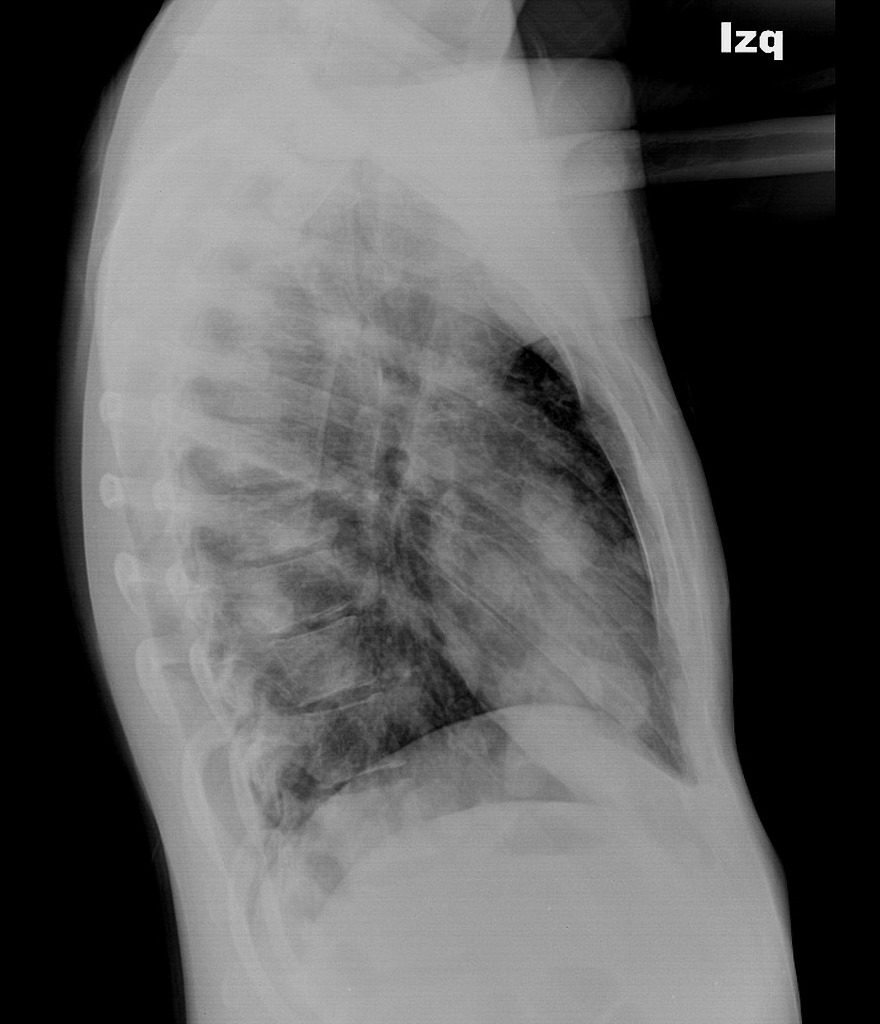cancer: (205, 219, 609, 767)
